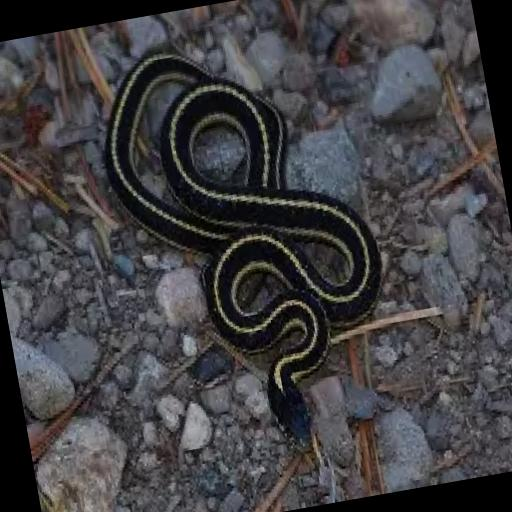snake: (105, 52, 382, 444)
